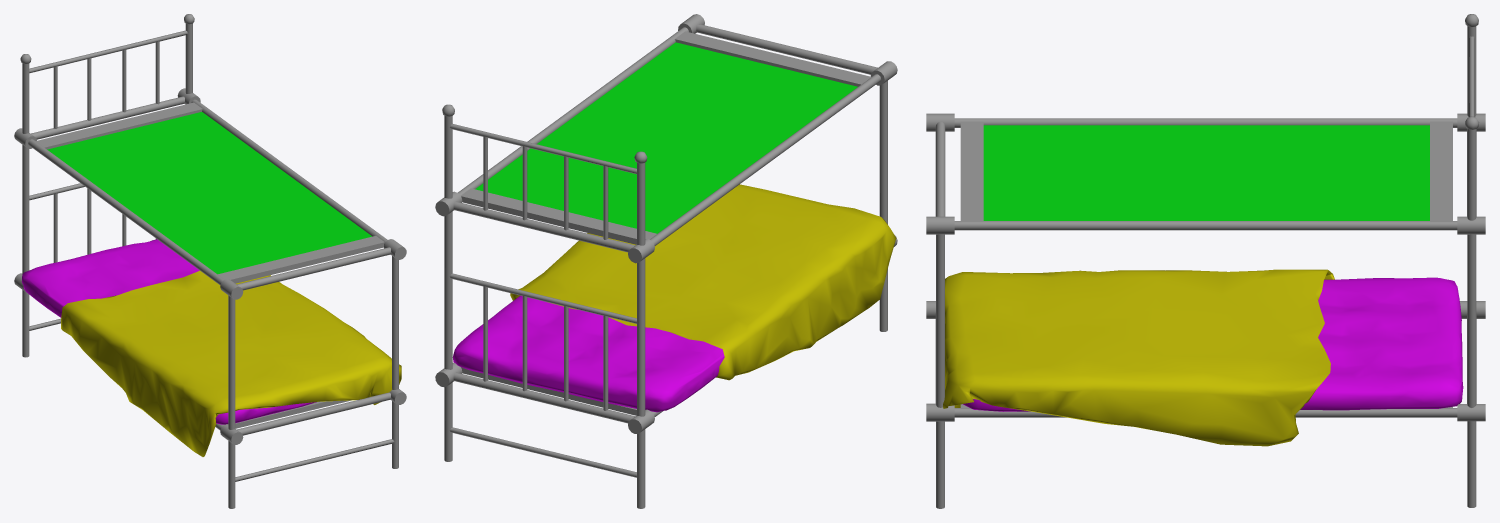
The model's file is bed_03.FBX.
The picture shows the model from 3 angles, left to right: view 1: azimuth 30°, elevation 25°; view 2: azimuth 150°, elevation 25°; view 3: azimuth 270°, elevation 25°; orthographic projection. The views are drawn at different scales.
Visible parts, largest first — view 1: bed_01_c; view 2: bed_01_c; view 3: bed_01_c.
Part boxes in pixels (x1,y1,x2,y2): bed_01_c: (14,14,406,508); bed_01_c: (435,14,897,508); bed_01_c: (926,14,1485,508).
Bounding box in the file's own units: 139 × 200 × 260.
